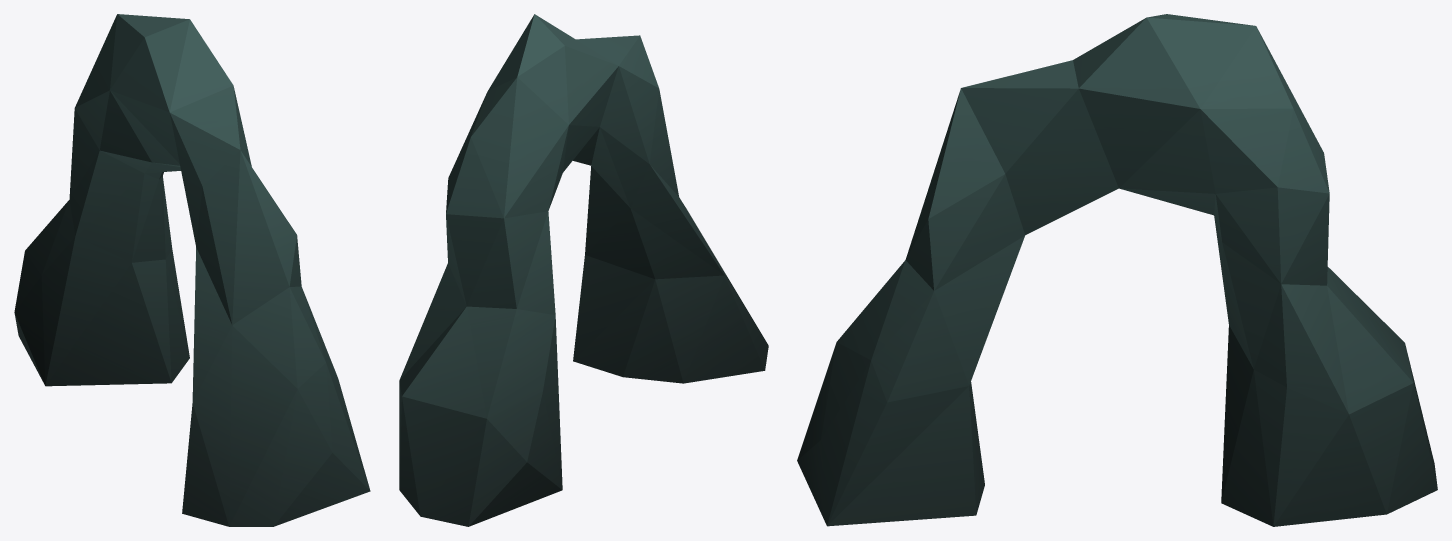
The model's file is SM_Rock_Arc_2.fbx.
3 views of the same model, side by side, from view 1: azimuth 30°, elevation 25°; view 2: azimuth 150°, elevation 25°; view 3: azimuth 270°, elevation 25° (orthographic). The views are drawn at different scales.
Visible parts, largest first — view 1: Rock_Arc_2; view 2: Rock_Arc_2; view 3: Rock_Arc_2.
Boxes of the visible parts, x1,y1,x2,y2 form: Rock_Arc_2: (14, 14, 370, 526); Rock_Arc_2: (399, 14, 768, 526); Rock_Arc_2: (797, 14, 1437, 526).
Bounding box in the file's own units: 87.99 × 198 × 240.
1 material, 1 textured.
